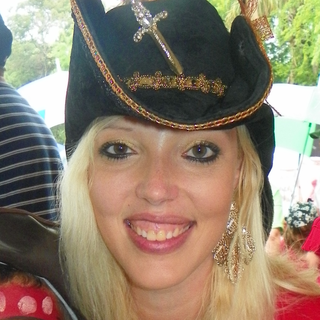eye: (176, 139, 226, 166), (96, 139, 143, 161)
